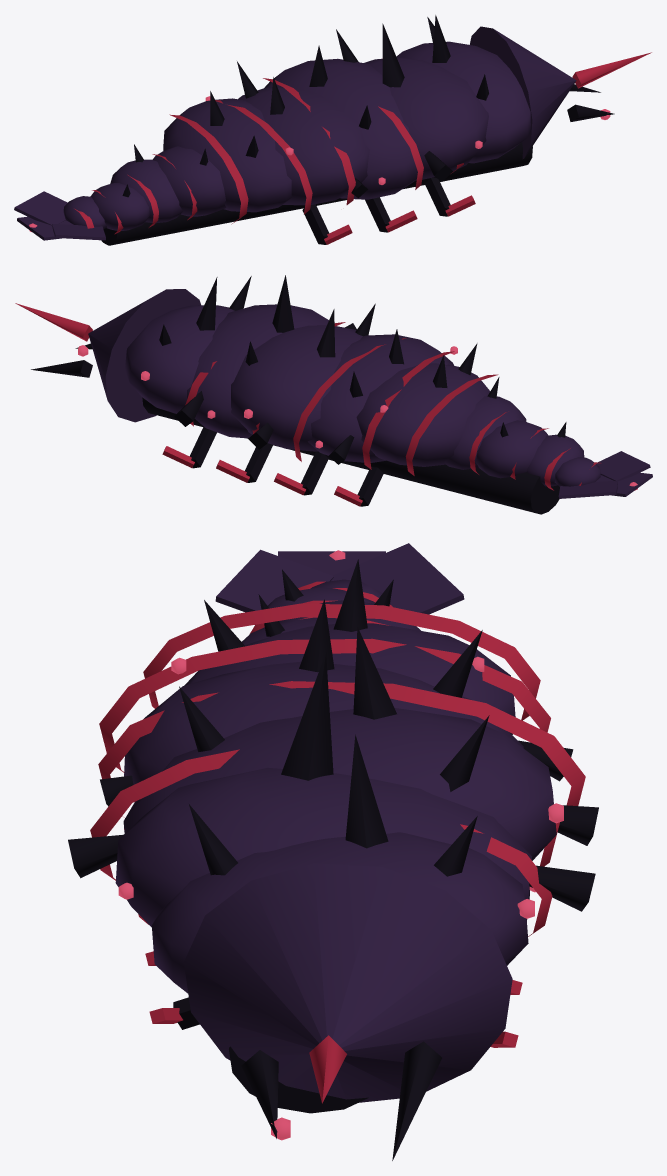
File: abyssal-submersible-directorate.glb
The picture shows the model from 3 angles, top to bottom: view 1: azimuth 30°, elevation 25°; view 2: azimuth 150°, elevation 25°; view 3: azimuth 270°, elevation 25°; orthographic projection. The views are drawn at different scales.
Parts seen in each view (by area): view 1: carapace_4, carapace_3, carapace_2, carapace_5, carapace_1, head, keel, tail_seg_1, tail_seg_2, tail_seg_3, telson_port, plate_rim_5 (+15 smaller); view 2: carapace_3, carapace_5, carapace_4, carapace_1, carapace_2, keel, head, tail_seg_2, tail_seg_1, tail_seg_3, tail_seg_4, telson_starboard (+16 smaller); view 3: head, carapace_2, carapace_3, carapace_1, carapace_4, carapace_5, plate_rim_4, plate_rim_3, plate_rim_5, telson_port, telson_starboard, spike_dorsal_2 (+20 smaller).
Part boxes in pixels (x1=…): carapace_4: x1=238, y1=87, x2=369, y2=205; carapace_3: x1=264, y1=58, x2=424, y2=199; carapace_2: x1=364, y1=57, x2=488, y2=180; carapace_5: x1=163, y1=98, x2=292, y2=212; carapace_1: x1=396, y1=41, x2=530, y2=163; head: x1=469, y1=26, x2=576, y2=159; keel: x1=101, y1=142, x2=532, y2=245; tail_seg_1: x1=152, y1=146, x2=226, y2=216; tail_seg_2: x1=110, y1=159, x2=182, y2=223; tail_seg_3: x1=90, y1=183, x2=149, y2=230; telson_port: x1=14, y1=191, x2=67, y2=225; plate_rim_5: x1=169, y1=114, x2=248, y2=224; carapace_3: x1=231, y1=325, x2=362, y2=451; carapace_5: x1=356, y1=363, x2=490, y2=466; carapace_4: x1=307, y1=334, x2=454, y2=462; carapace_1: x1=125, y1=305, x2=234, y2=413; carapace_2: x1=187, y1=304, x2=328, y2=438; keel: x1=142, y1=397, x2=559, y2=514; head: x1=88, y1=289, x2=200, y2=422; tail_seg_2: x1=475, y1=420, x2=548, y2=478; tail_seg_1: x1=444, y1=396, x2=526, y2=469; tail_seg_3: x1=527, y1=434, x2=584, y2=486; tail_seg_4: x1=554, y1=457, x2=600, y2=486; telson_starboard: x1=596, y1=451, x2=650, y2=481; head: x1=184, y1=863, x2=512, y2=1102; carapace_2: x1=115, y1=767, x2=532, y2=927; carapace_3: x1=123, y1=708, x2=556, y2=860; carapace_1: x1=151, y1=832, x2=528, y2=993; carapace_4: x1=124, y1=661, x2=523, y2=784; carapace_5: x1=184, y1=623, x2=515, y2=734; plate_rim_4: x1=99, y1=638, x2=550, y2=772; plate_rim_3: x1=98, y1=681, x2=585, y2=817; plate_rim_5: x1=143, y1=603, x2=540, y2=720; telson_port: x1=331, y1=543, x2=464, y2=614; telson_starboard: x1=215, y1=549, x2=333, y2=612; spike_dorsal_2: x1=281, y1=652, x2=333, y2=780.
Size of the model in its own units: 94.78 by 25.7 by 35.16.
